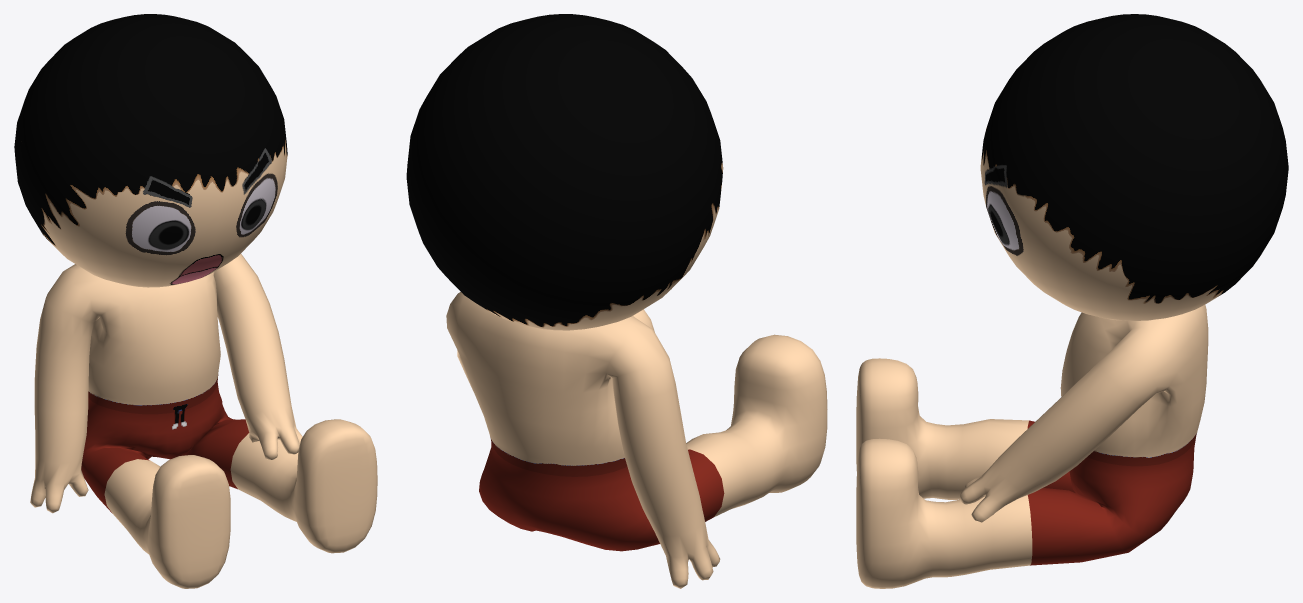
The model's file is SentadoSilla.fbx.
3 views of the same model, side by side, from view 1: azimuth 30°, elevation 25°; view 2: azimuth 150°, elevation 25°; view 3: azimuth 270°, elevation 25° (orthographic). The views are drawn at different scales.
Visible parts, largest first — view 1: Cube.002; view 2: Cube.002; view 3: Cube.002.
Boxes of the visible parts, x1=… form: Cube.002: x1=14, y1=14, x2=377, y2=588; Cube.002: x1=406, y1=14, x2=827, y2=588; Cube.002: x1=856, y1=14, x2=1288, y2=588.
Bounding box in the file's own units: 1458 × 2642 × 2005.
2 materials, 2 textured.
